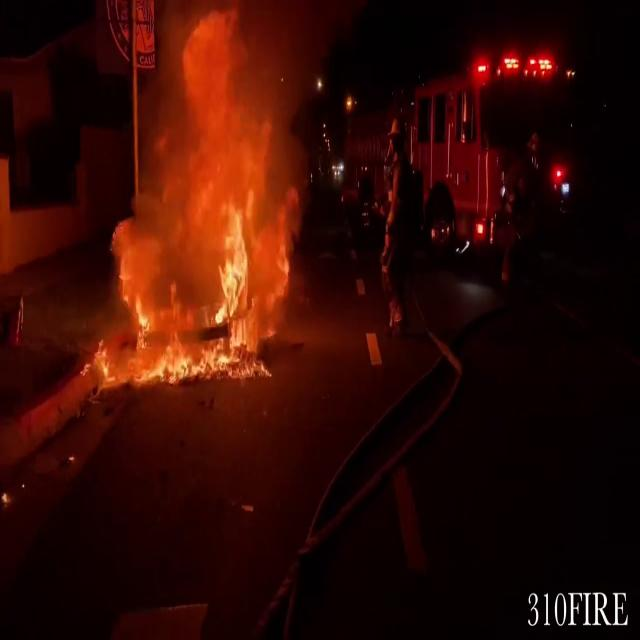Fire: (82, 8, 314, 390)
